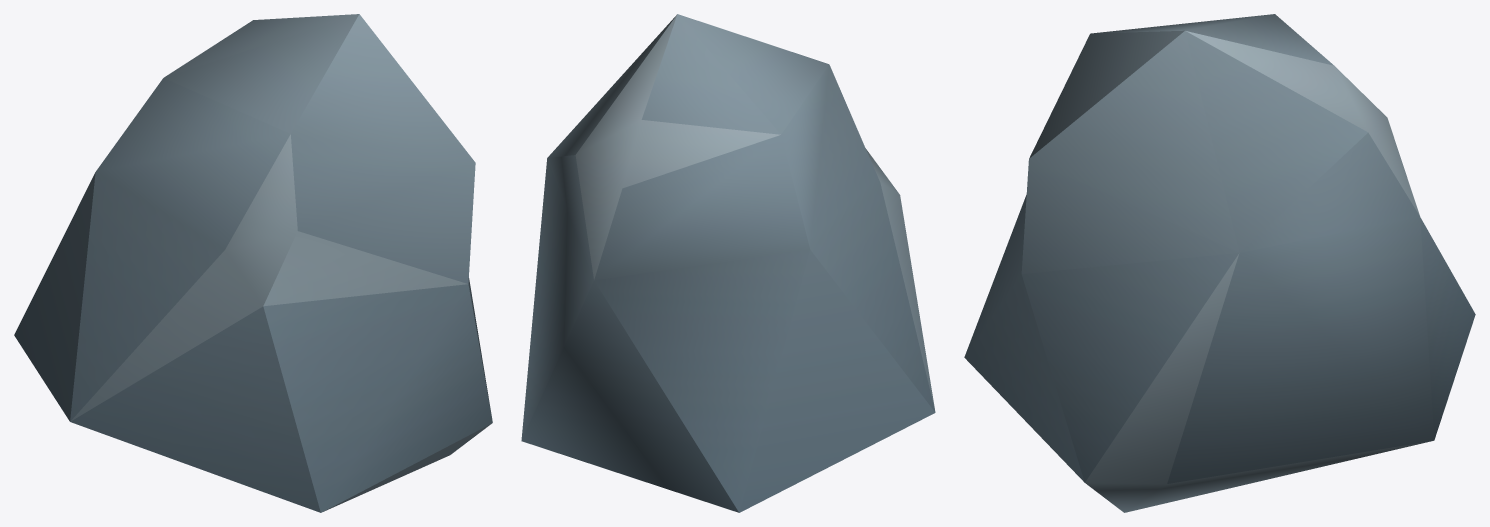
The model's file is Iron_Nugget_Medium.glb.
3 views of the same model, side by side, from view 1: azimuth 30°, elevation 25°; view 2: azimuth 150°, elevation 25°; view 3: azimuth 270°, elevation 25° (orthographic). The views are drawn at different scales.
Visible parts, largest first — view 1: Iron_Nugget_Medium; view 2: Iron_Nugget_Medium; view 3: Iron_Nugget_Medium.
Part boxes in pixels (bbox=[...]): Iron_Nugget_Medium: bbox=[14, 14, 492, 512]; Iron_Nugget_Medium: bbox=[521, 14, 935, 512]; Iron_Nugget_Medium: bbox=[964, 14, 1475, 512].
Size of the model in its own units: 0.2589 by 0.2781 by 0.2819.
Materials: 1 (1 with a texture image).
